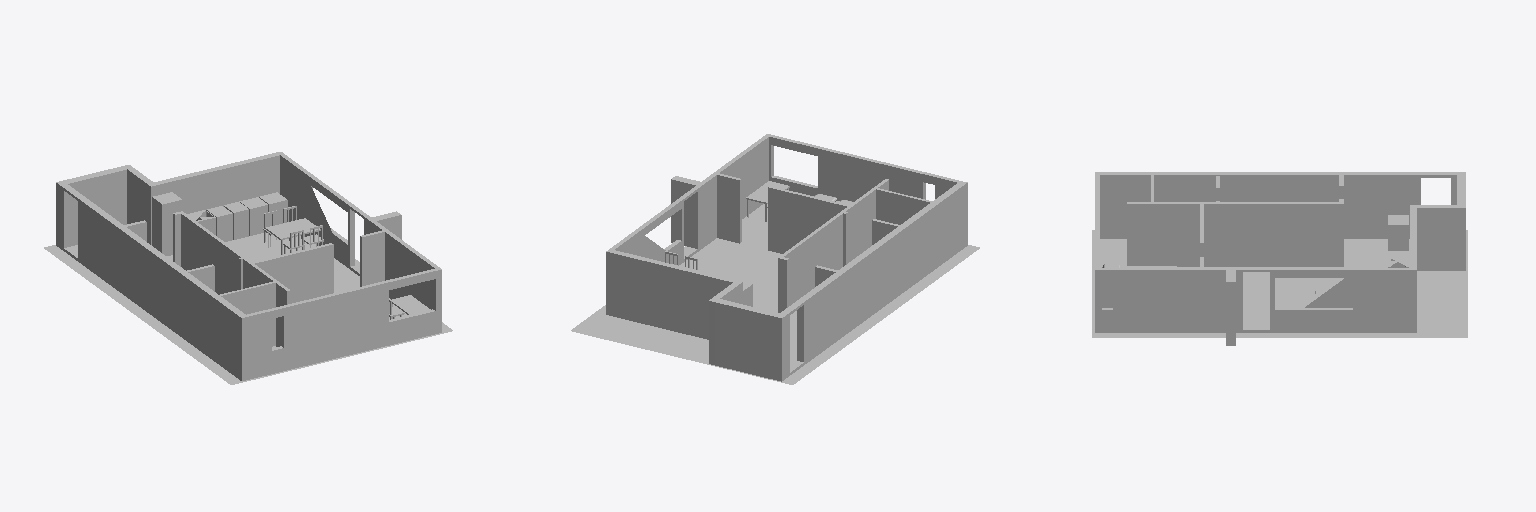
The model's file is OttoBrandt.obj.
3 views of the same model, side by side, from view 1: azimuth 30°, elevation 25°; view 2: azimuth 150°, elevation 25°; view 3: azimuth 270°, elevation 25° (orthographic).
Parts seen in each view (by area): view 1: wall_outer_Cube, wall_internal_Cube.013, Plane, kitchen_table_Cube.004, kitchen01_fridge_Cube.011, kitchen06_Cube.006, kitchen05_Cube.007, bedroom_desk_Cube.003, kitchen04_Cube.008, kitchen07_Cube.005; view 2: wall_outer_Cube, wall_internal_Cube.013, Plane; view 3: wall_outer_Cube, wall_internal_Cube.013, Plane, kitchen01_fridge_Cube.011.
Boxes of the visible parts, <box> form: wall_outer_Cube: <box>56,152,441,380</box>; wall_internal_Cube.013: <box>124,211,384,346</box>; Plane: <box>44,233,452,384</box>; kitchen_table_Cube.004: <box>263,206,323,254</box>; kitchen01_fridge_Cube.011: <box>152,192,182,255</box>; kitchen06_Cube.006: <box>239,197,267,235</box>; kitchen05_Cube.007: <box>224,202,248,239</box>; bedroom_desk_Cube.003: <box>389,295,430,319</box>; kitchen04_Cube.008: <box>206,206,232,241</box>; kitchen07_Cube.005: <box>259,192,287,226</box>; wall_outer_Cube: <box>606,134,967,381</box>; wall_internal_Cube.013: <box>716,173,932,313</box>; Plane: <box>571,204,979,384</box>; wall_outer_Cube: <box>1095,172,1465,345</box>; wall_internal_Cube.013: <box>1127,175,1343,267</box>; Plane: <box>1092,230,1467,337</box>; kitchen01_fridge_Cube.011: <box>1388,215,1408,250</box>.
Size of the model in its own units: 7.87 by 2 by 10.78.